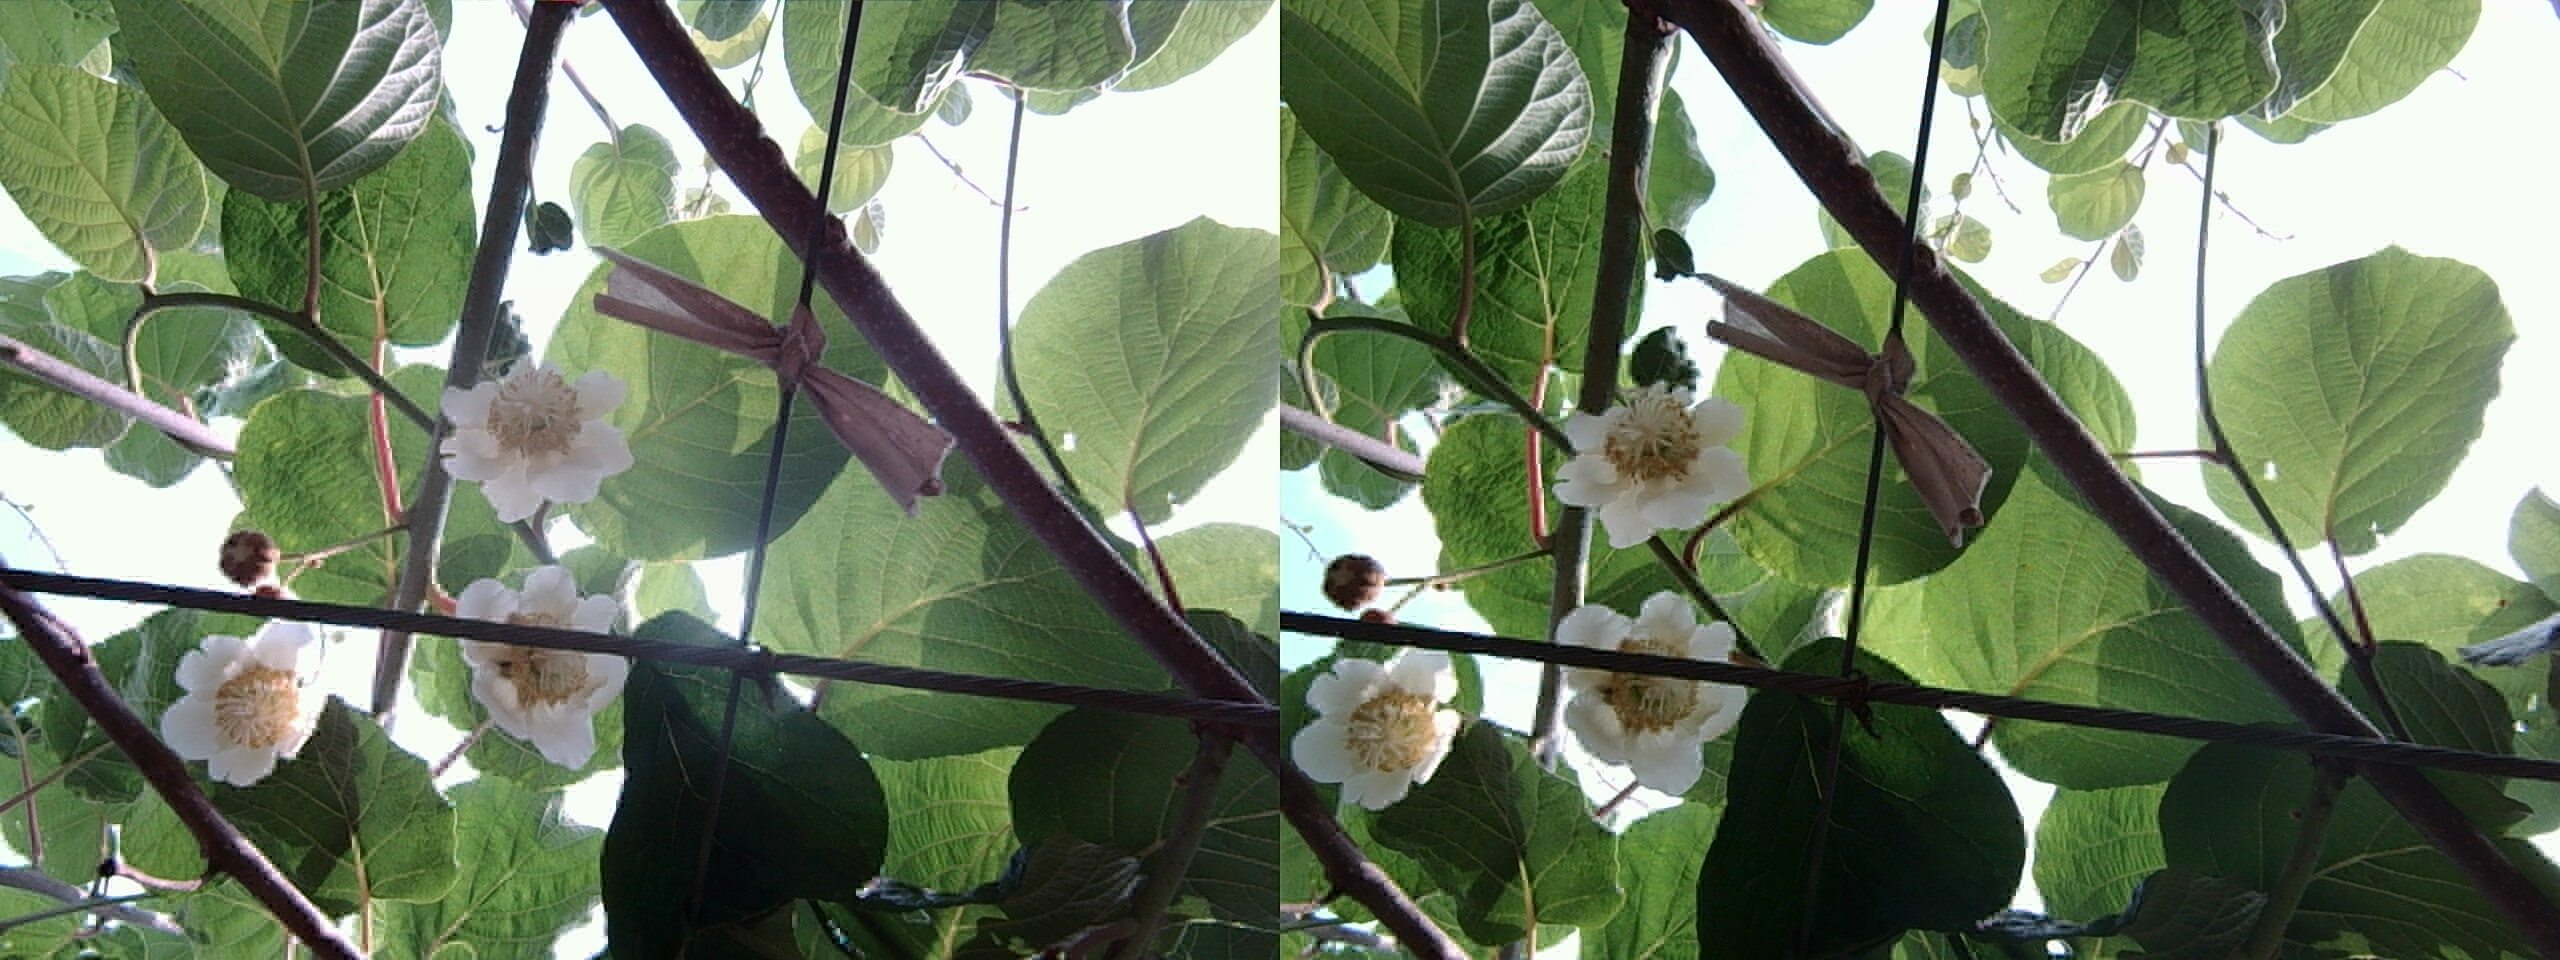flower: (1540, 581, 1740, 807), (1543, 367, 1753, 536), (436, 344, 633, 522), (464, 571, 625, 761), (158, 625, 323, 789), (1291, 650, 1463, 803)
